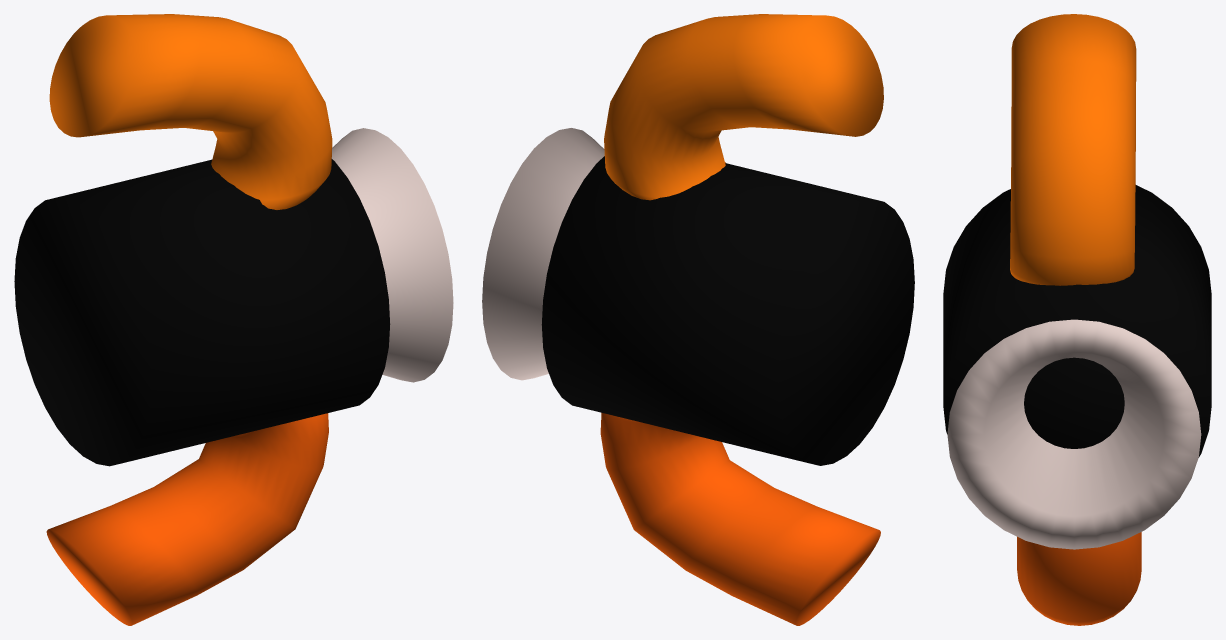
Rendered from Glasses.fbx.
3 views of the same model, side by side, from view 1: azimuth 30°, elevation 25°; view 2: azimuth 150°, elevation 25°; view 3: azimuth 270°, elevation 25° (orthographic). The views are drawn at different scales.
Visible parts, largest first — view 1: Sphere; view 2: Sphere; view 3: Sphere.
Part boxes in pixels (x1,y1,x2,y2): Sphere: (14,14,453,625); Sphere: (482,14,914,625); Sphere: (943,14,1211,625).
Bounding box in the file's own units: 47.8 × 84.63 × 35.03.
